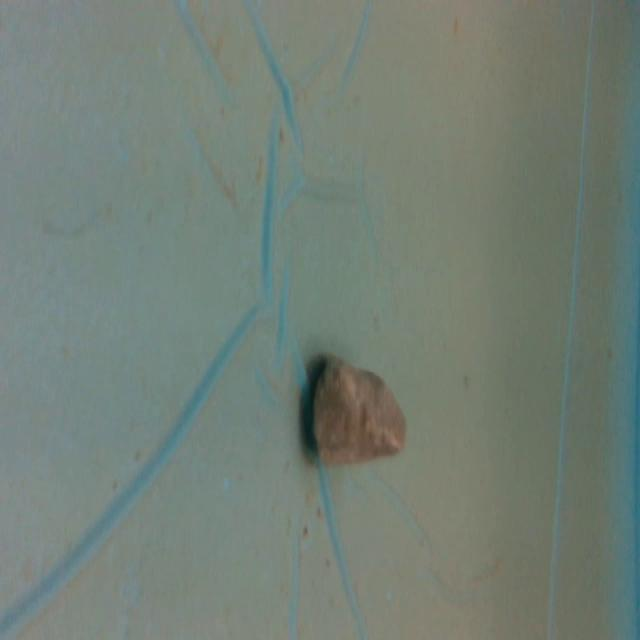rock: (304, 353, 410, 474)
